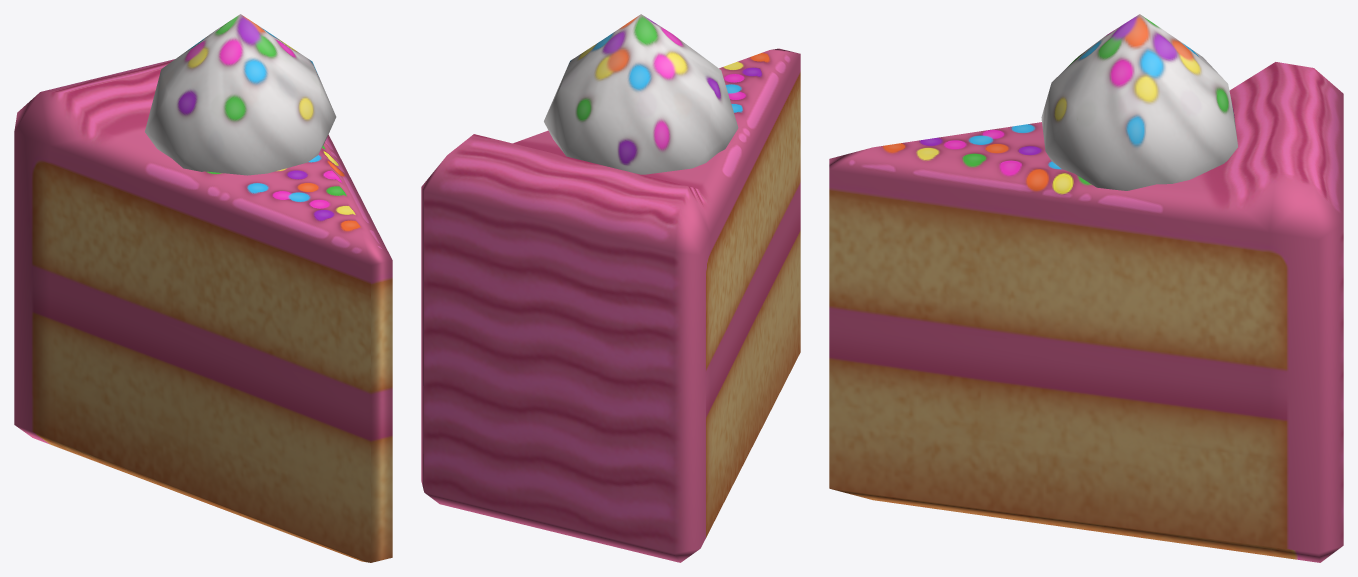
File: BDayCake_Slice.fbx
The picture shows the model from 3 angles, left to right: view 1: azimuth 30°, elevation 25°; view 2: azimuth 150°, elevation 25°; view 3: azimuth 270°, elevation 25°; orthographic projection. The views are drawn at different scales.
Visible parts, largest first — view 1: BDayCake_Slice; view 2: BDayCake_Slice; view 3: BDayCake_Slice.
Part boxes in pixels (x1,y1,x2,y2): BDayCake_Slice: [14, 14, 392, 562]; BDayCake_Slice: [421, 14, 800, 562]; BDayCake_Slice: [829, 14, 1343, 562].
Size of the model in its own units: 26.02 by 40.64 by 38.81.
